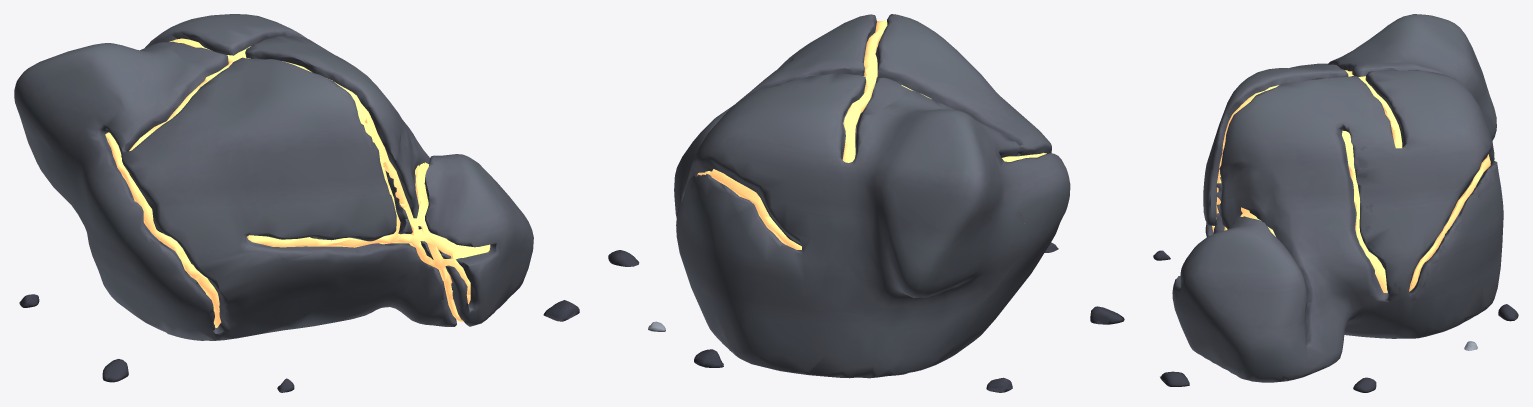
The model's file is roca_lava.glb.
3 renders of one model, left to right at view 1: azimuth 30°, elevation 25°; view 2: azimuth 150°, elevation 25°; view 3: azimuth 270°, elevation 25°, orthographic. The views are drawn at different scales.
Visible parts, largest first — view 1: lava-rock_body; view 2: lava-rock_body; view 3: lava-rock_body.
Boxes of the visible parts, <box> form: lava-rock_body: <box>14,14,579,392</box>; lava-rock_body: <box>608,14,1124,392</box>; lava-rock_body: <box>1153,14,1518,392</box>.
Size of the model in its own units: 1.82 by 0.9765 by 1.47.
Materials: 2 (1 with a texture image).
